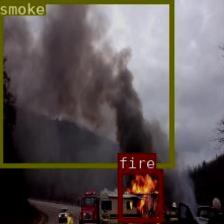fire: (117, 169, 162, 222)
smoke: (0, 0, 173, 167)
